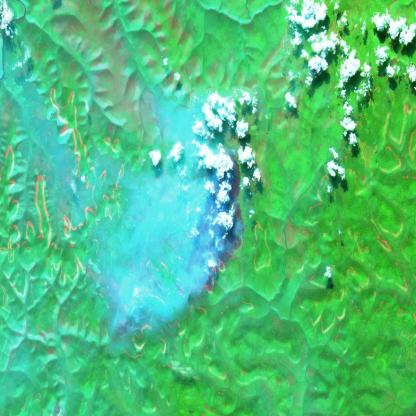fire: (173, 224, 244, 302)
